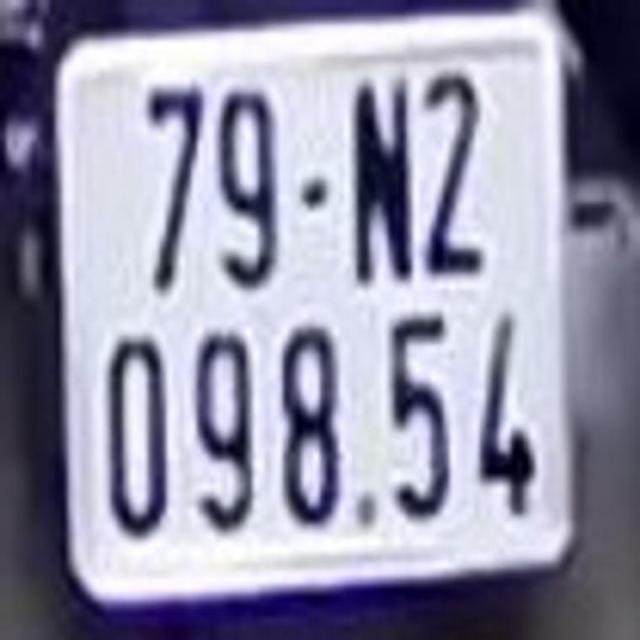0: (109, 338, 171, 537)
2: (424, 66, 488, 277)
4: (478, 312, 540, 511)
5: (390, 309, 454, 516)
7: (146, 86, 210, 284)
8: (281, 324, 339, 530)
9: (220, 87, 280, 296), (196, 326, 256, 534)
N: (353, 80, 418, 286)
